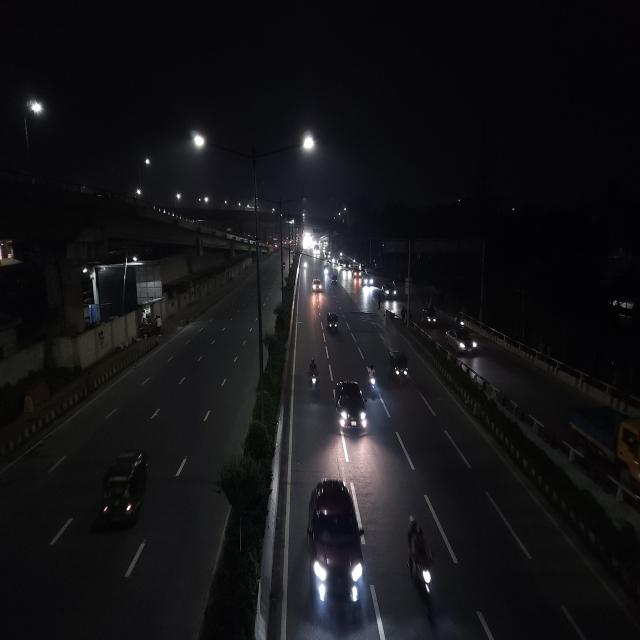bus: (362, 268, 375, 288)
car: (304, 472, 368, 624), (331, 377, 368, 436), (443, 324, 481, 358), (381, 280, 399, 301)
cng: (94, 444, 154, 537), (387, 346, 411, 386), (420, 302, 438, 328), (326, 309, 340, 334), (310, 276, 324, 294), (329, 273, 338, 287)
motorcycle: (404, 512, 438, 614), (305, 356, 321, 398), (365, 360, 379, 394)
pedestrian: (400, 307, 408, 327), (376, 294, 384, 314)
truck: (566, 403, 640, 505)
